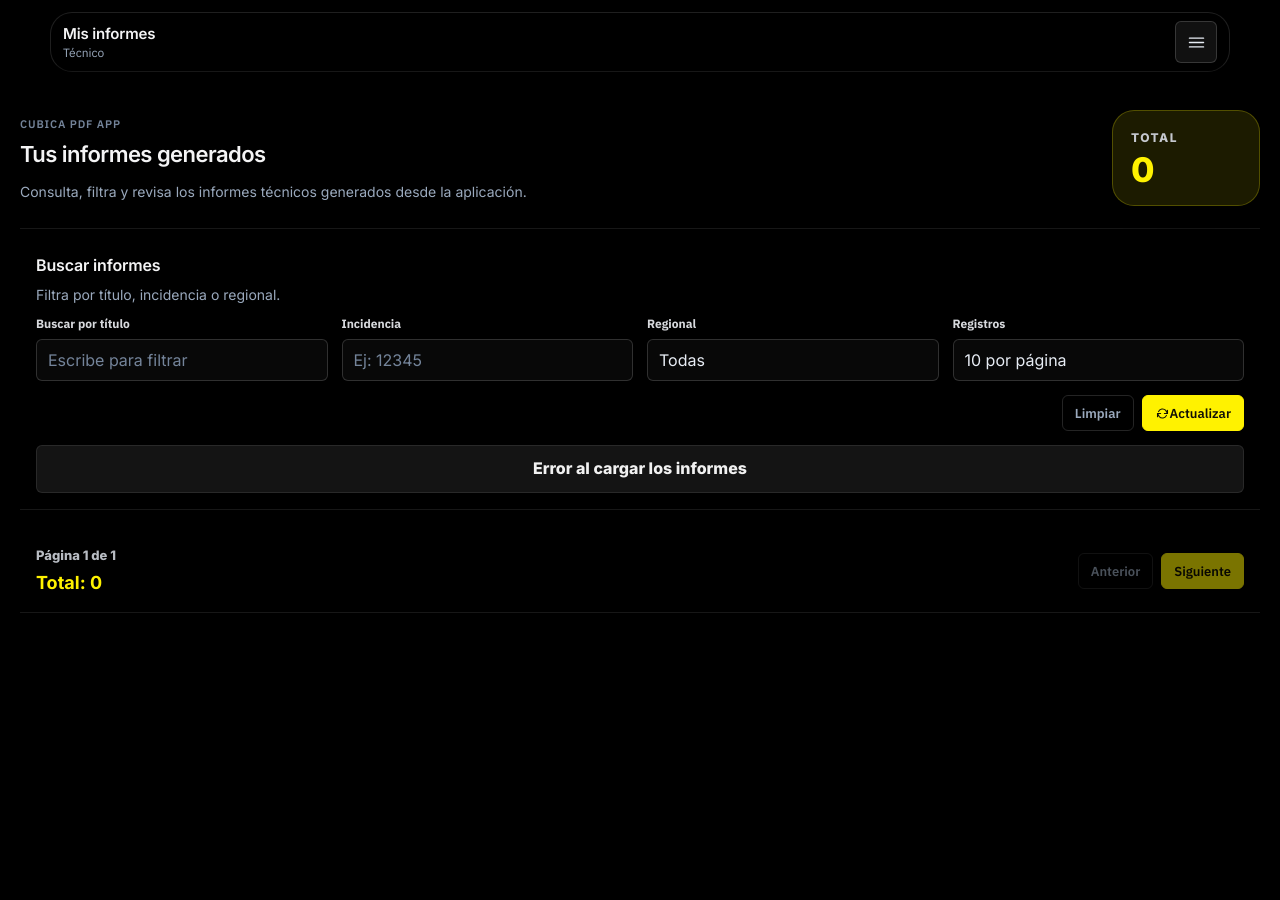
Test: al fallar la carga muestra error en vez de un estado vacío y permite actualizar
Check: the message reads "Error al cargar los informes", box [533,458,747,478]
Check: the text "No hay informes" is not shown
Click the button "Actualizar" at x=1193, y=413, box [1142,395,1244,431]
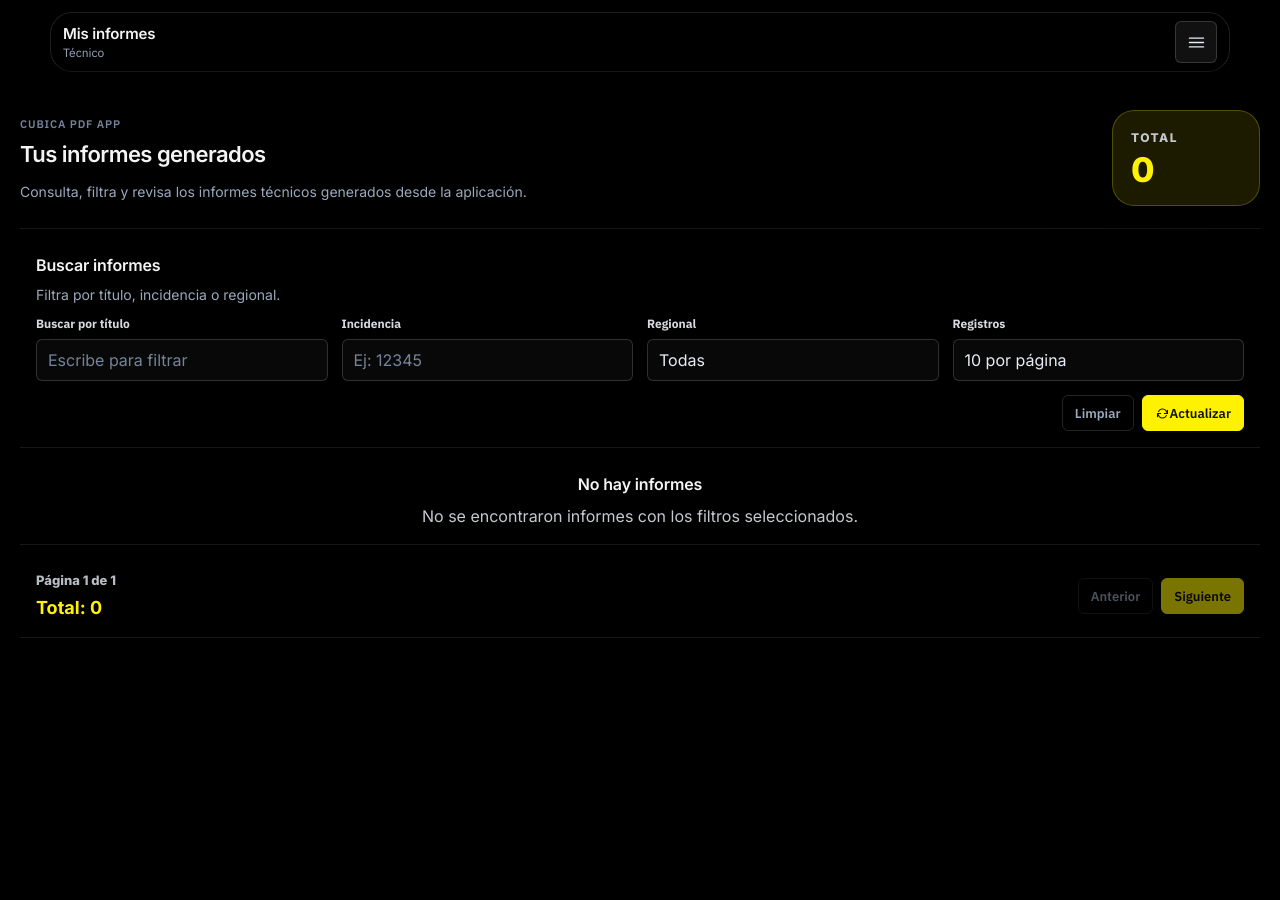
Check: the heading "No hay informes" is shown, box [578,474,702,494]
